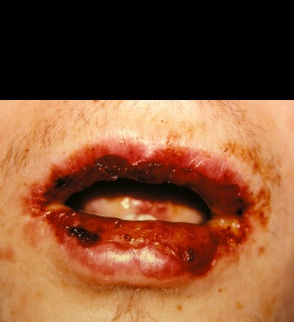SJS-TEN: (17, 79, 292, 322)
